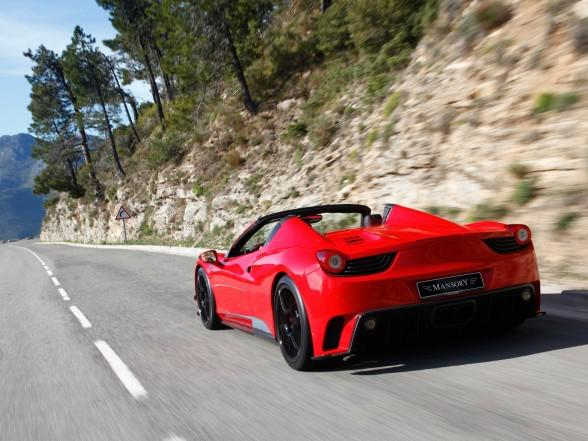Car: (185, 194, 551, 381)
